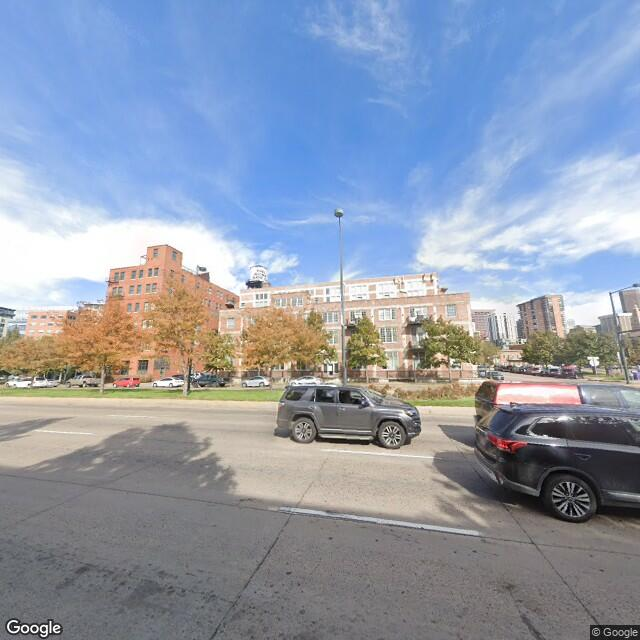lamp: (330, 207, 351, 386)
